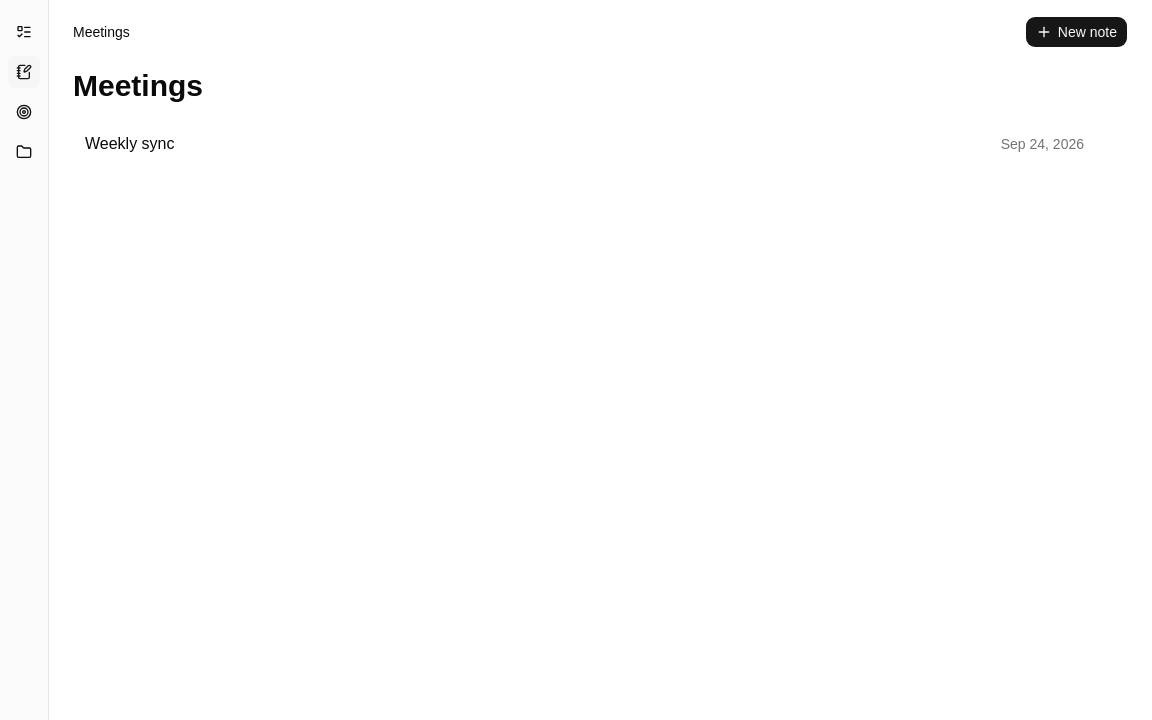
Test: Choosing the initiatives of a meeting › offers the initiatives of the project and the meeting's deleted ones, alphabetically, and checks the ones that the meeting covers
Click the link "Weekly sync Sep 24, 2026". click: [130, 144]
box: [85, 135, 1084, 152]
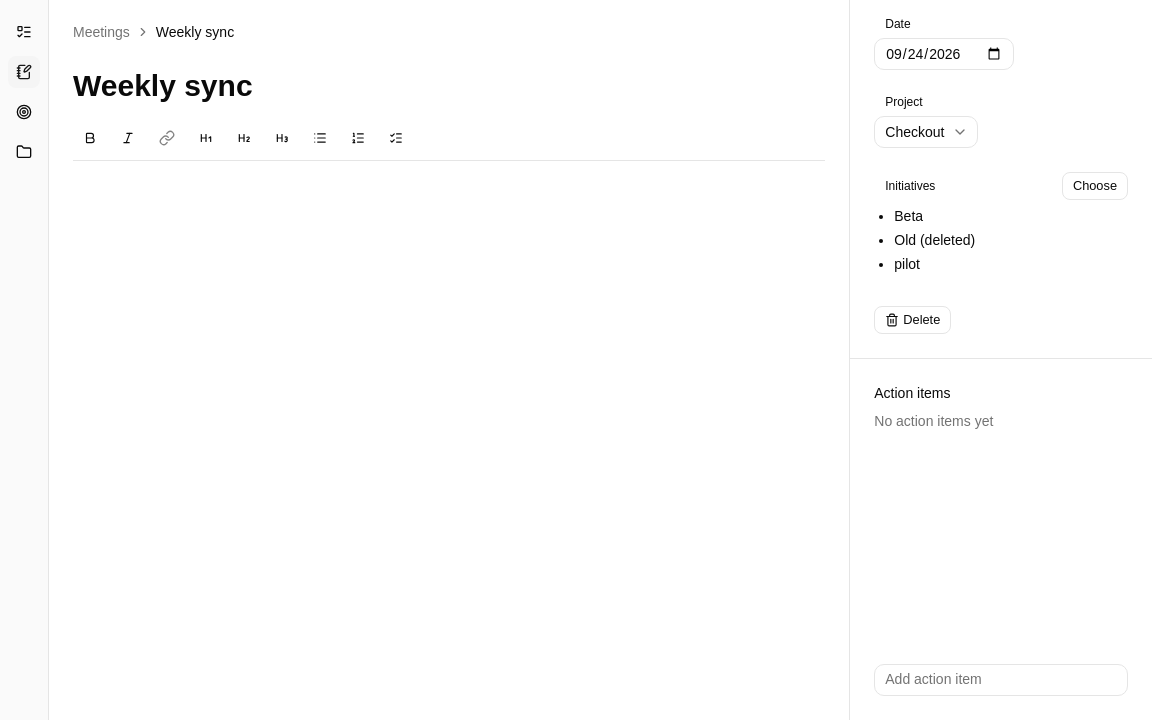
Check: the dropdown named "Meeting project" is enabled, box [874, 116, 978, 148]
Check: the button with aria-label "Choose initiatives" is enabled
Click the button with aria-label "Choose initiatives". click: [1095, 186]
box: [1062, 172, 1128, 200]
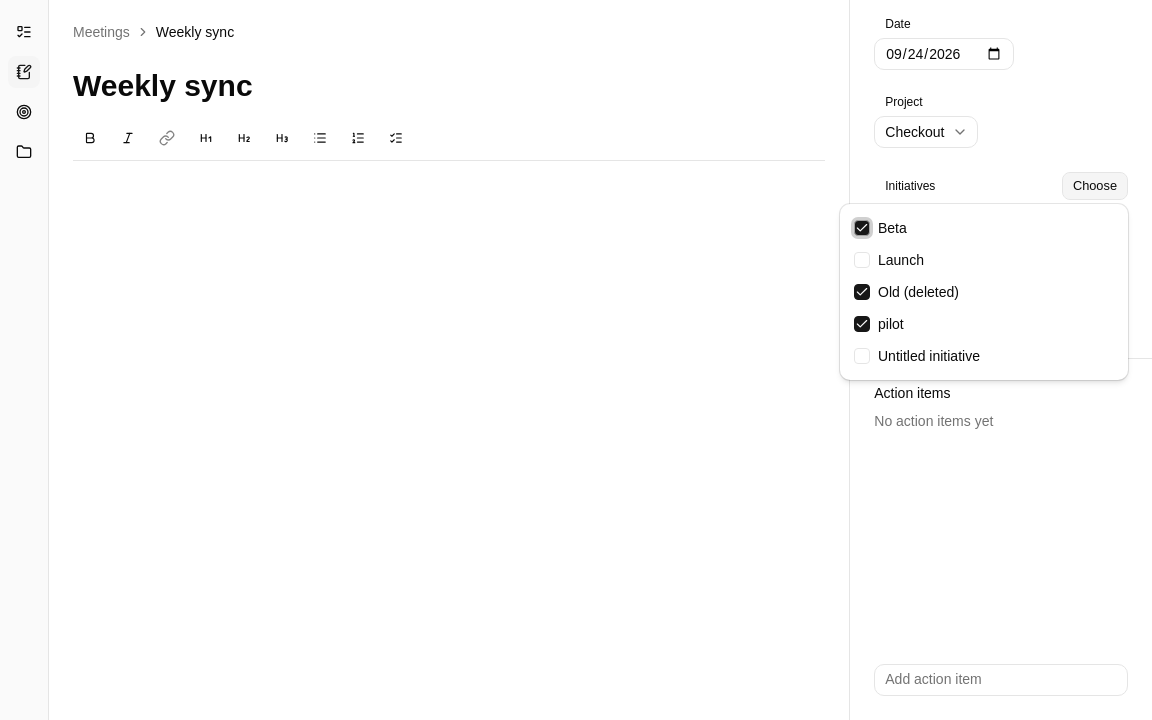
Check: the 1st checkbox named "Beta" is checked, box [854, 220, 870, 236]
Check: the checkbox named "Launch" next to "Launch" is not checked, box [854, 252, 870, 268]
Check: the 3rd checkbox named "Old (deleted)" is checked, box [854, 284, 870, 300]
